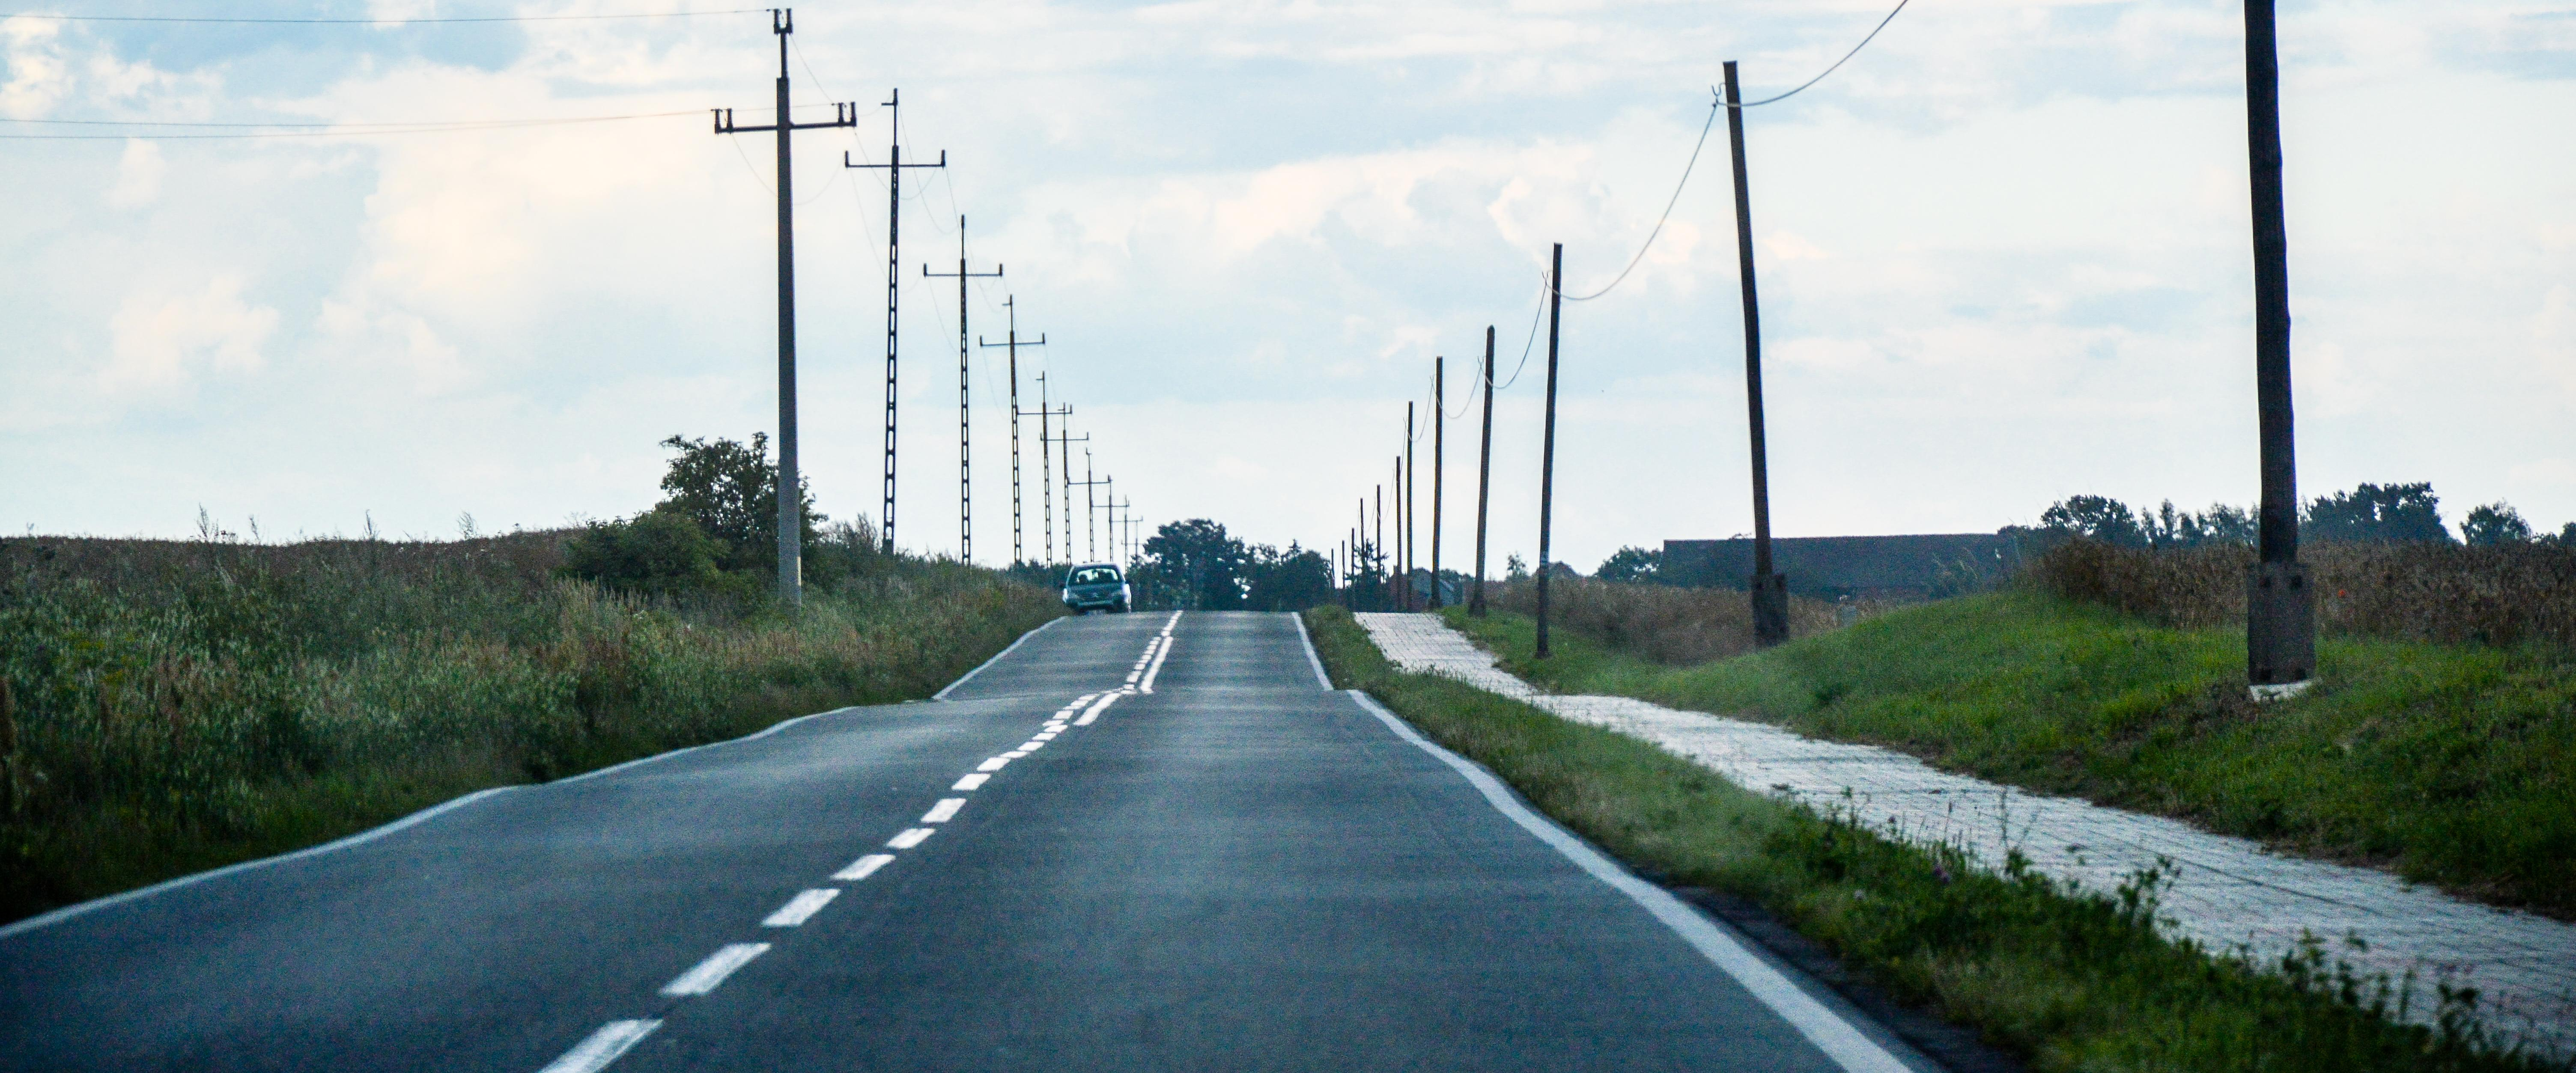Animal: (2178, 0, 2353, 667), (675, 0, 838, 618), (1702, 56, 1815, 657), (851, 89, 943, 598), (1521, 215, 1585, 619), (933, 207, 997, 575), (1457, 317, 1510, 606), (1416, 362, 1475, 608), (989, 301, 1035, 572)
